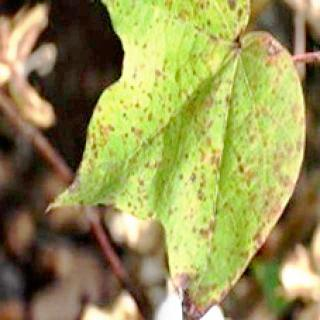leaf spot: (56, 2, 300, 318)
